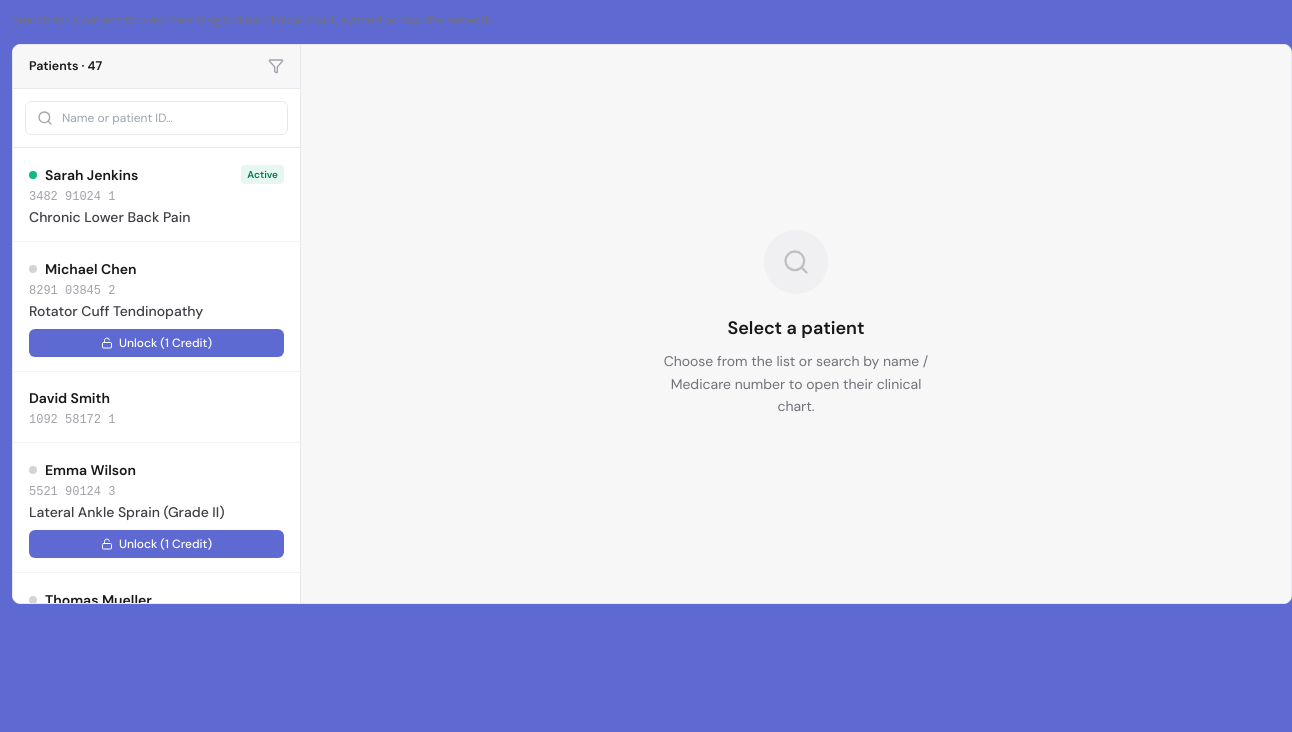
Test: PatientSearch › shows an inline char error when a digit + letter combination is typed
Type "1abc" into the field with placeholder "Name or patient ID…" at (156, 118), box [25,101,288,135]
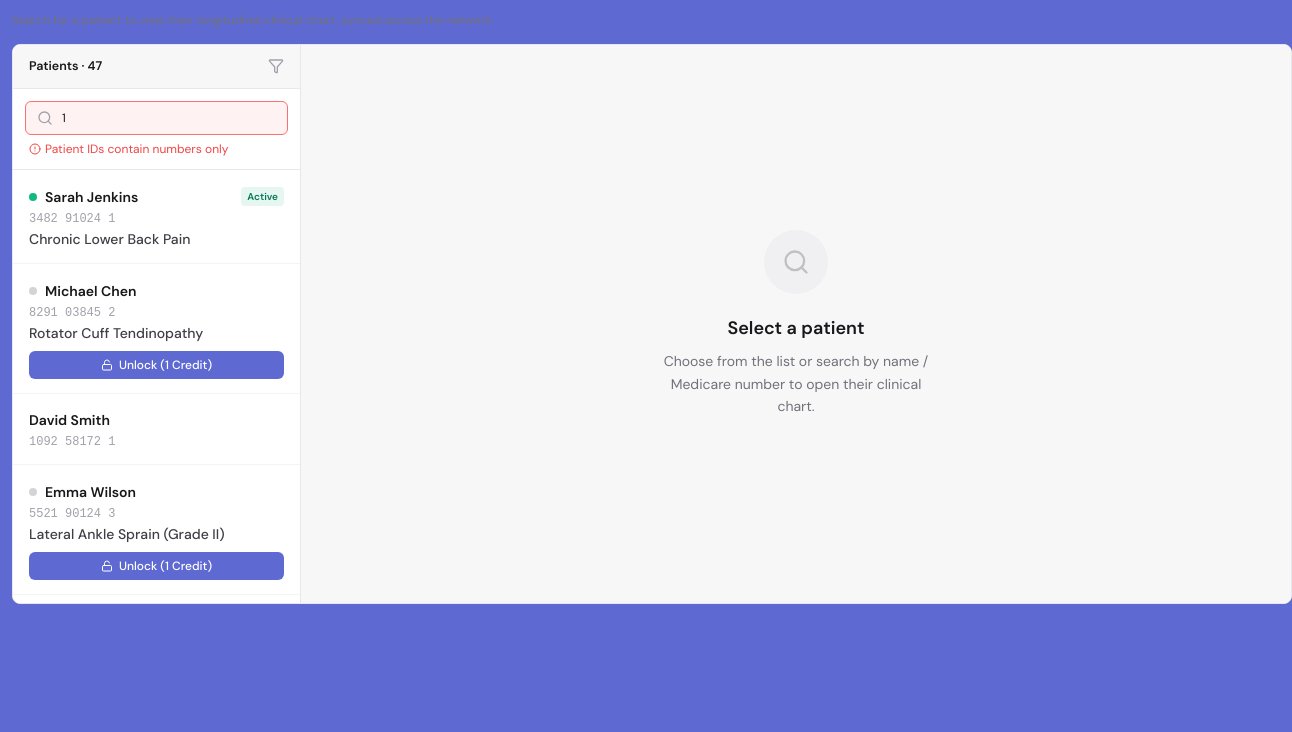
Now the message "Patient IDs contain numbers only" is shown, box [29,141,228,157]
Now the message shows "numbers only", box [45,141,228,157]
